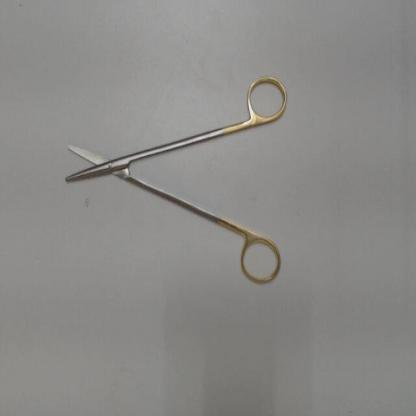7 Metzenbaum Scissors: (60, 68, 292, 293)
